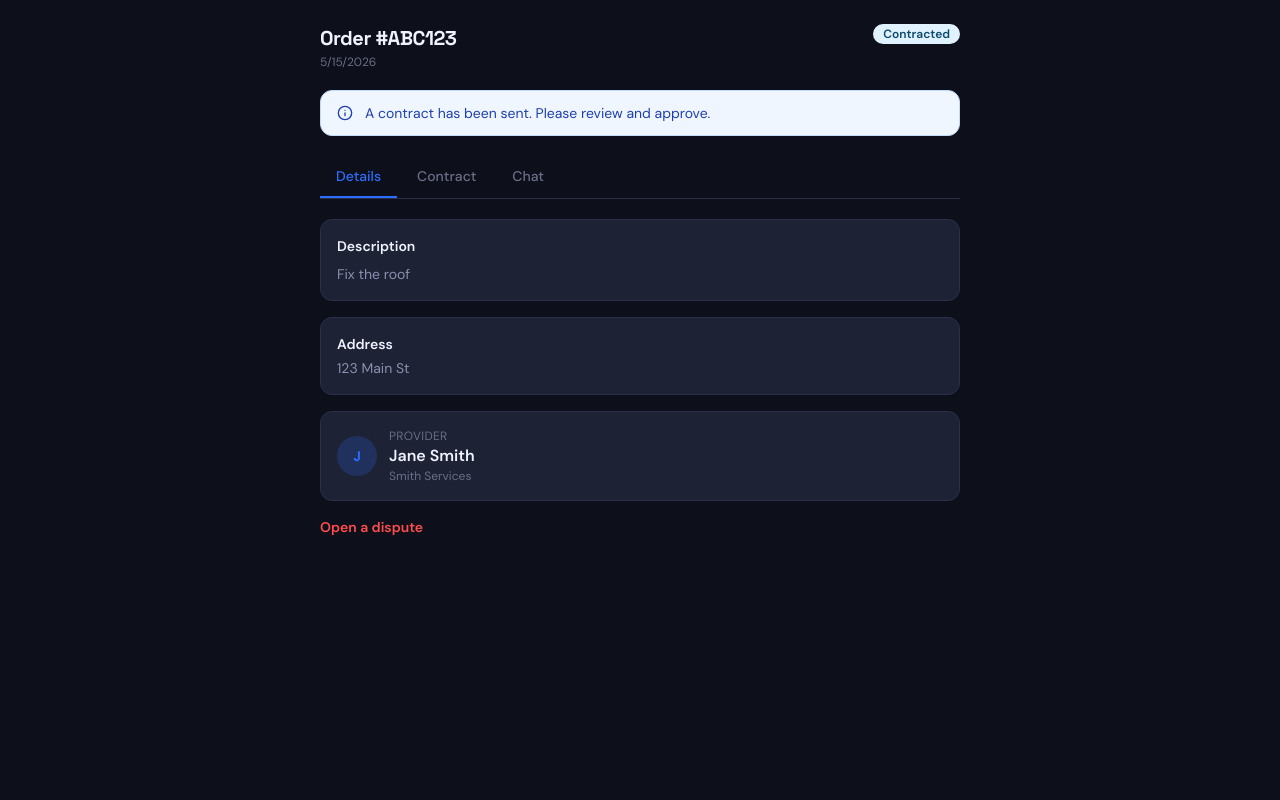
Scenario: OrderDetail › AC4 — dispute submit button disabled until reason >= 20 chars
This screenshot has width=1280, height=800.
Click the button with test id "dispute-button" at (372, 527), box [320,517,423,537]
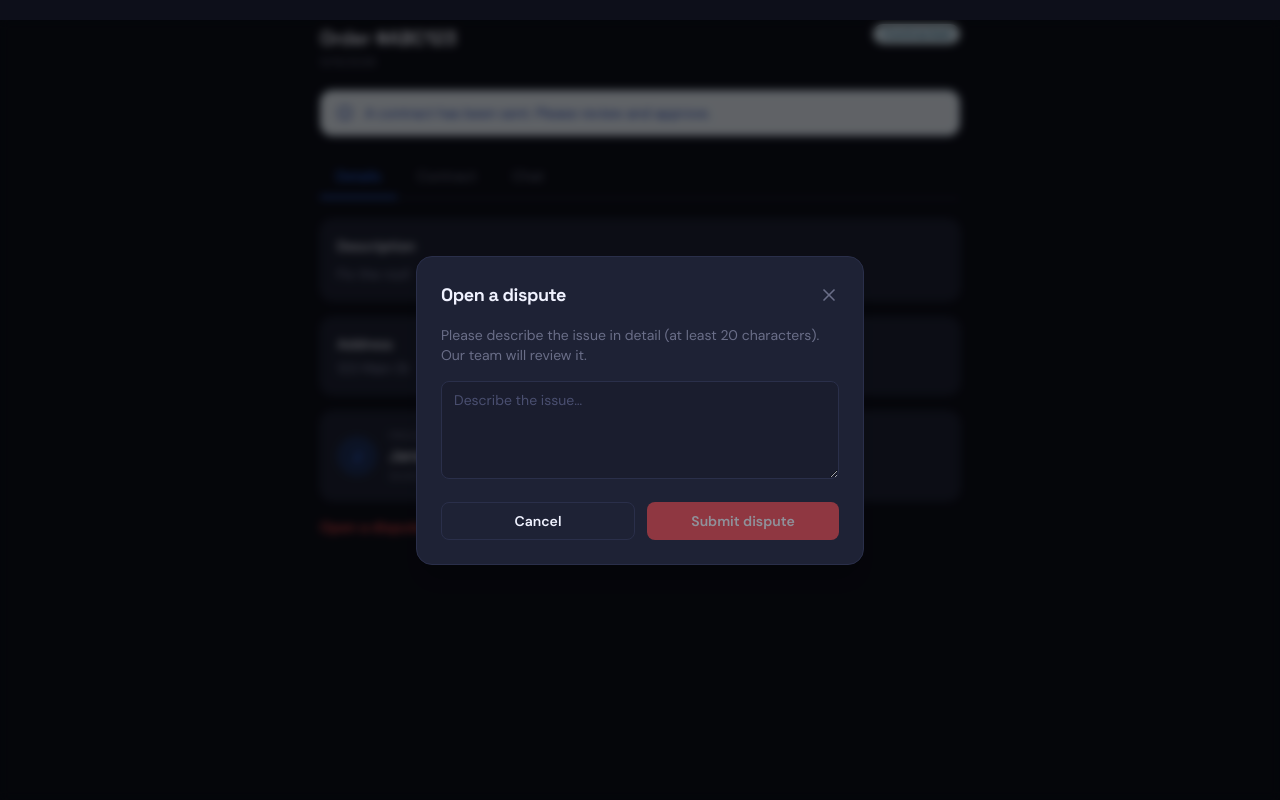
Expected: the button "Submit dispute" is disabled, [647,502,839,540]
Type "Short" into the text box with placeholder "Describe the issue…" at (640, 430), box [441,380,839,478]
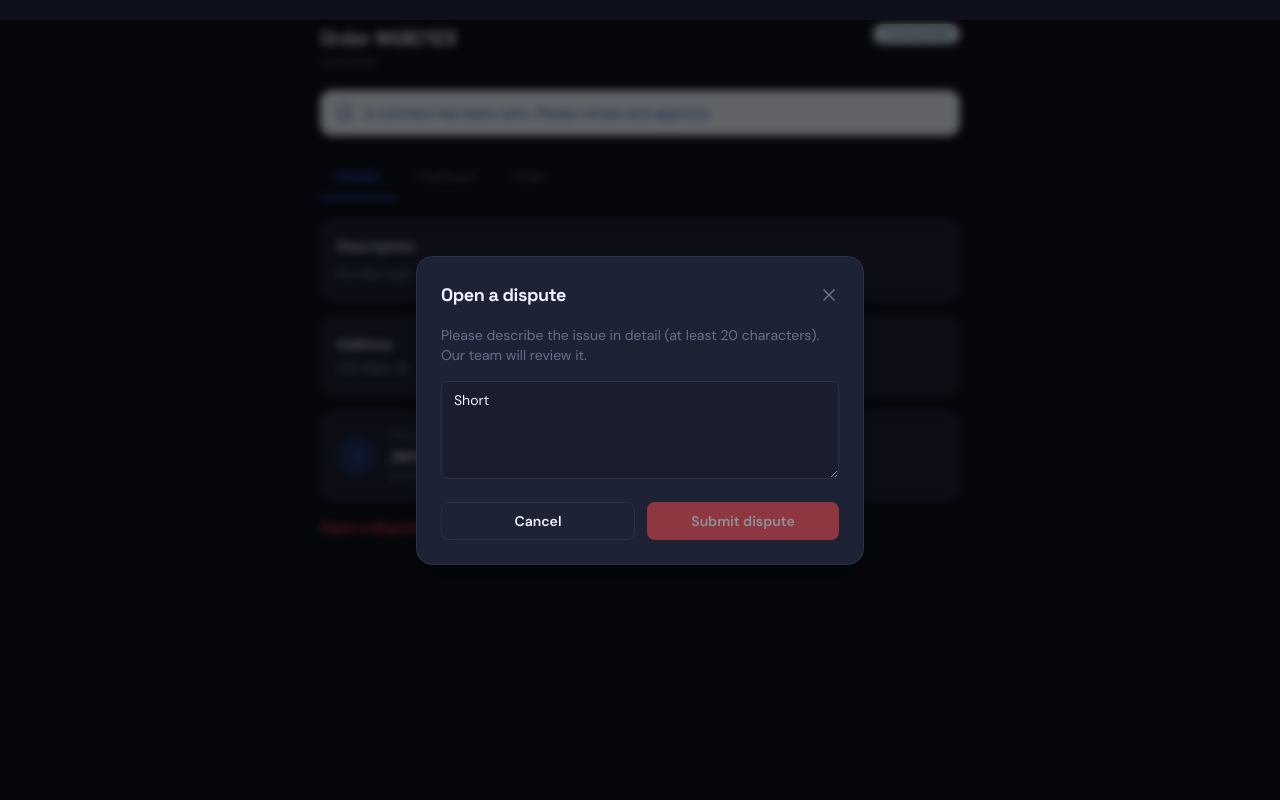
Expected: the button "Submit dispute" is disabled, [647,502,839,540]
Replace the text in the text box with placeholder "Describe the issue…" with "This is a long enough reason for a dispute." at (640, 430), box [441,380,839,478]
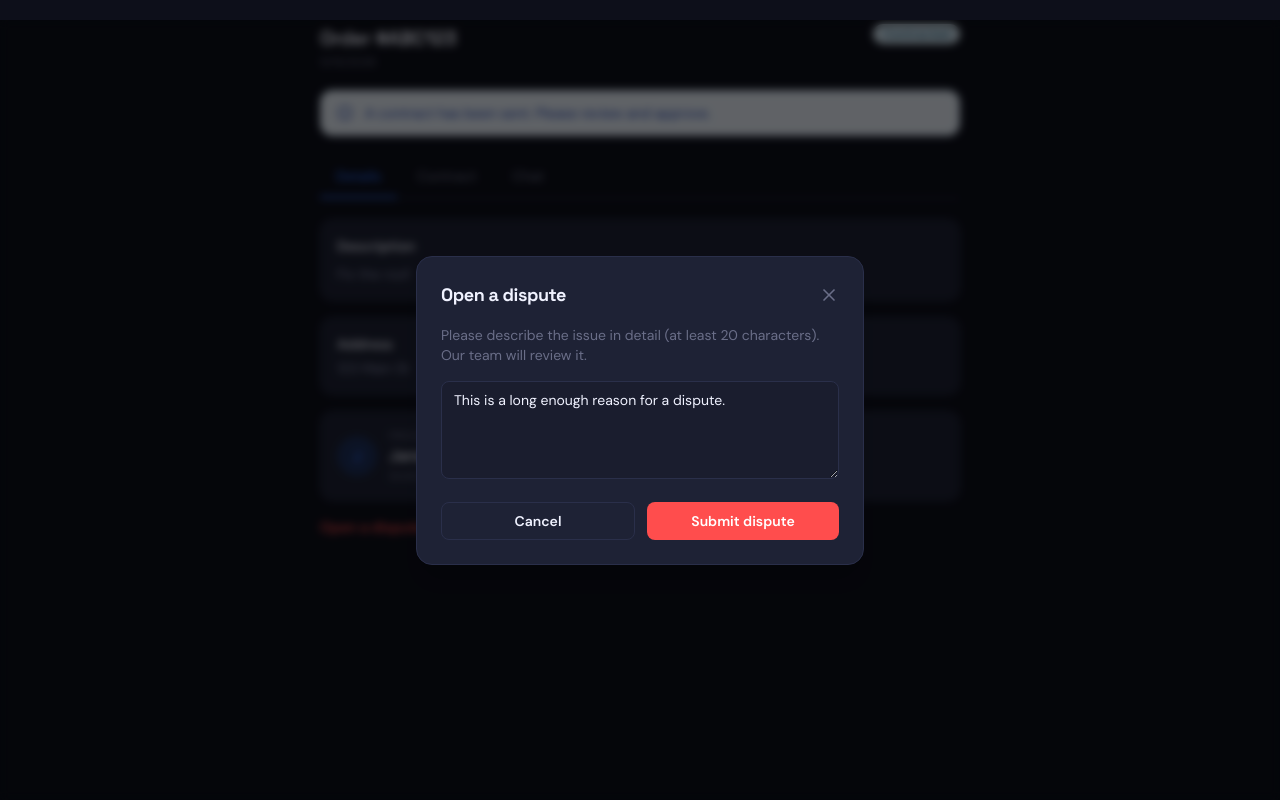
Expected: the button "Submit dispute" is enabled, [647,502,839,540]
